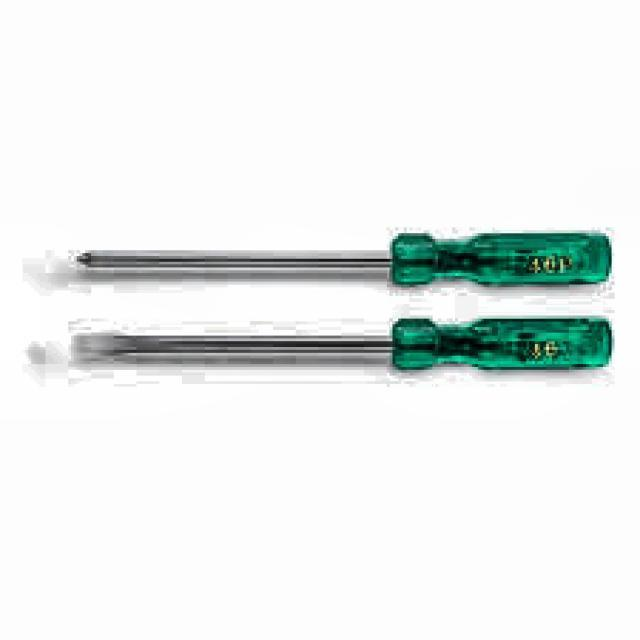screwdriver: (79, 315, 611, 371), (75, 232, 610, 283)
